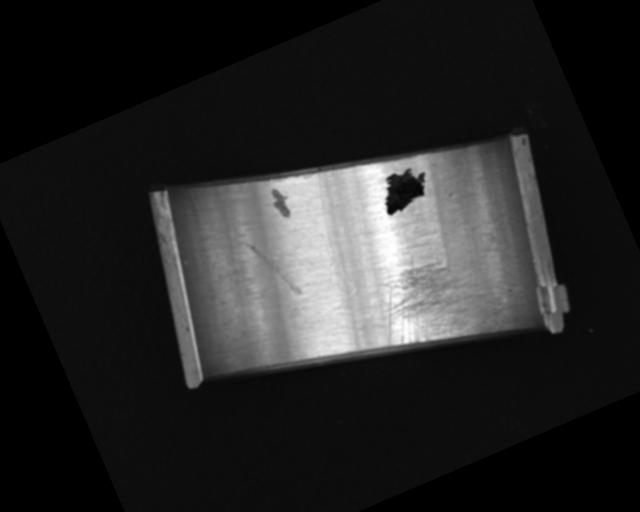blot: (372, 160, 436, 217)
bruise: (265, 183, 295, 222)
nick: (300, 174, 369, 295), (242, 227, 304, 309)
scratch: (358, 229, 511, 374)
